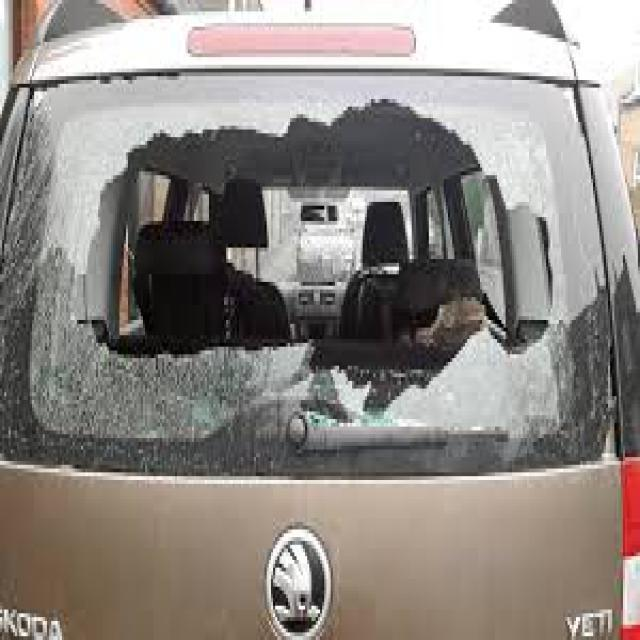Rear-windscreen-Damage: (12, 46, 612, 530)
